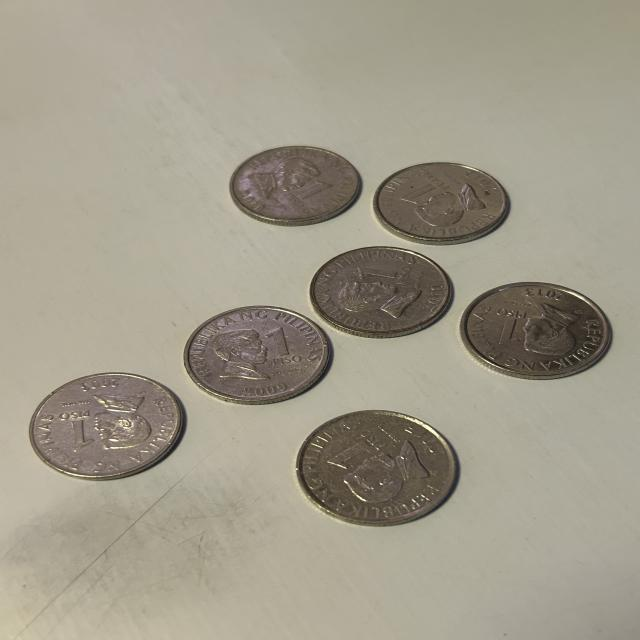1_Old_Front: (327, 425, 392, 474), (255, 321, 308, 377), (489, 304, 542, 357), (52, 402, 102, 450), (354, 256, 415, 292), (396, 175, 446, 208), (287, 176, 335, 208)
